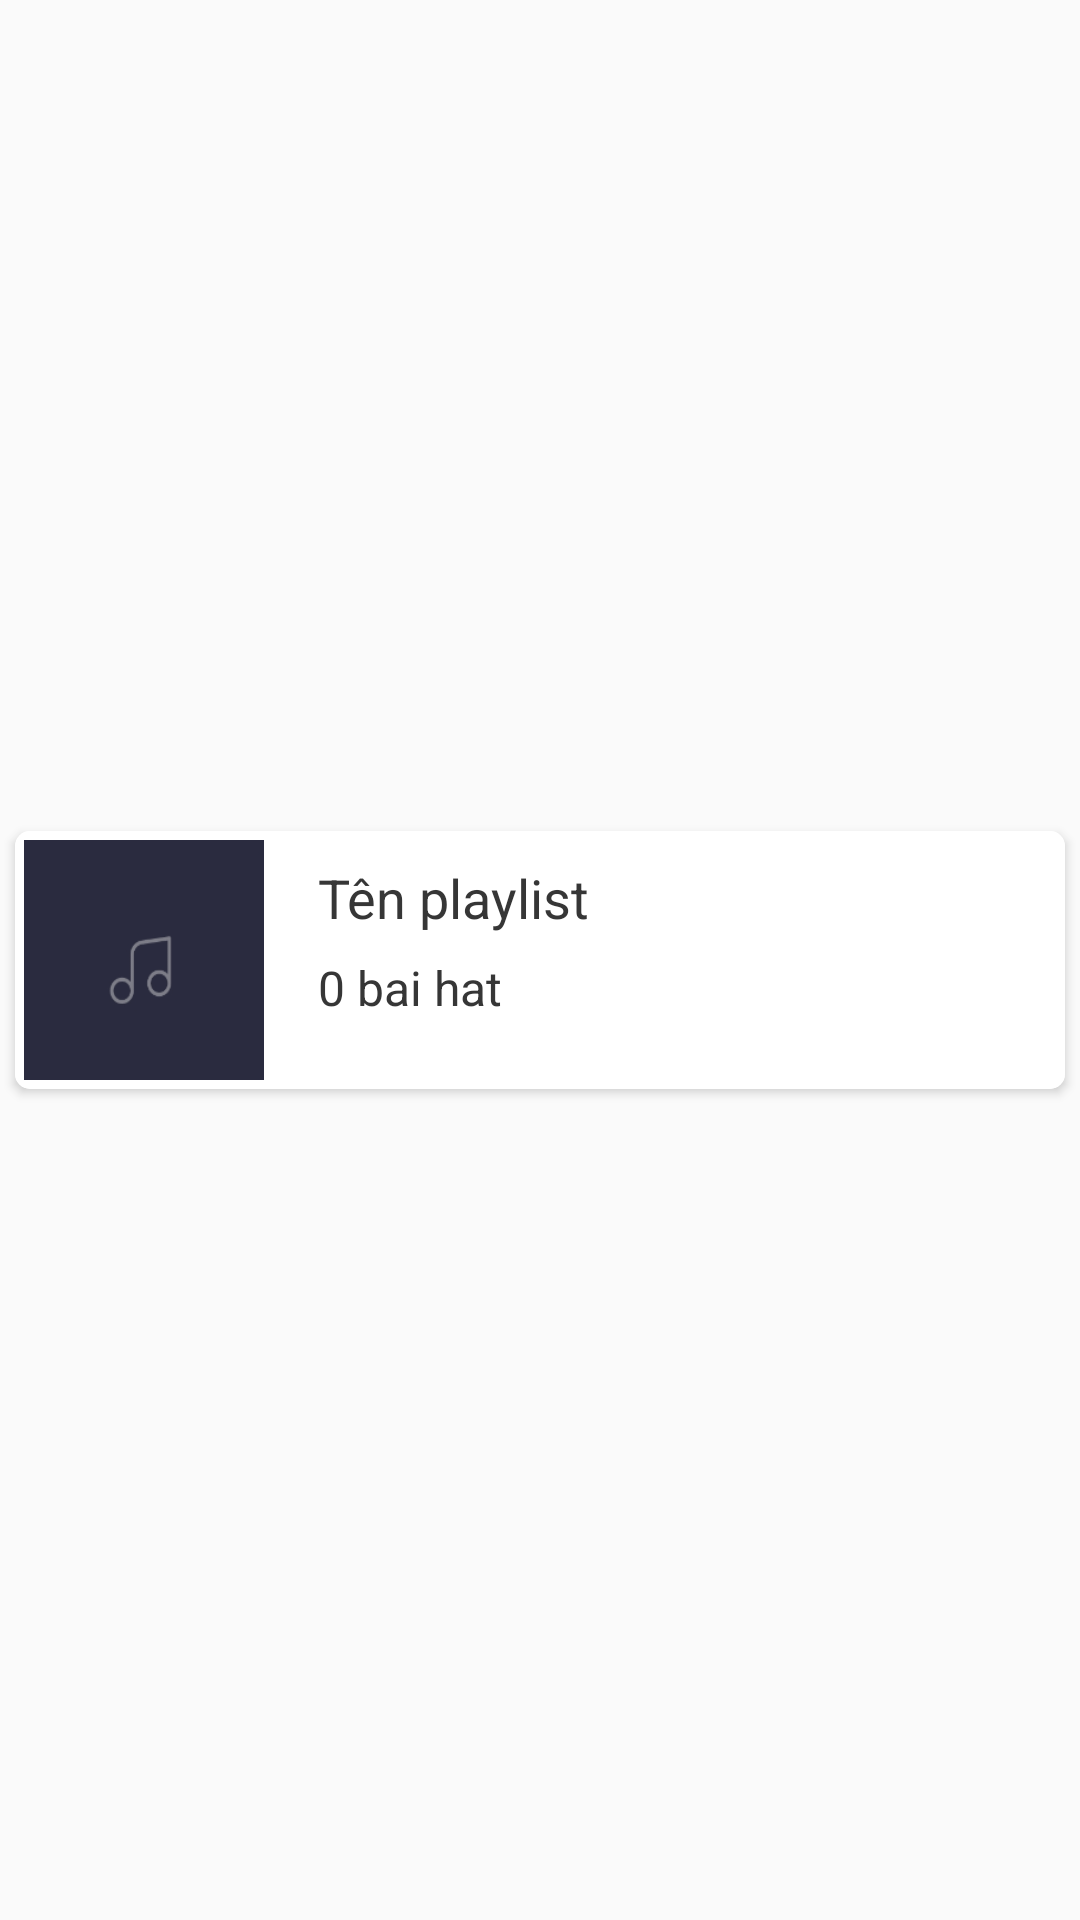

Icon bounding boxes for this 1080px x 1920px phone screenshot, format (x1, y1, x2, y2):
node music: (24, 840, 264, 1080)
